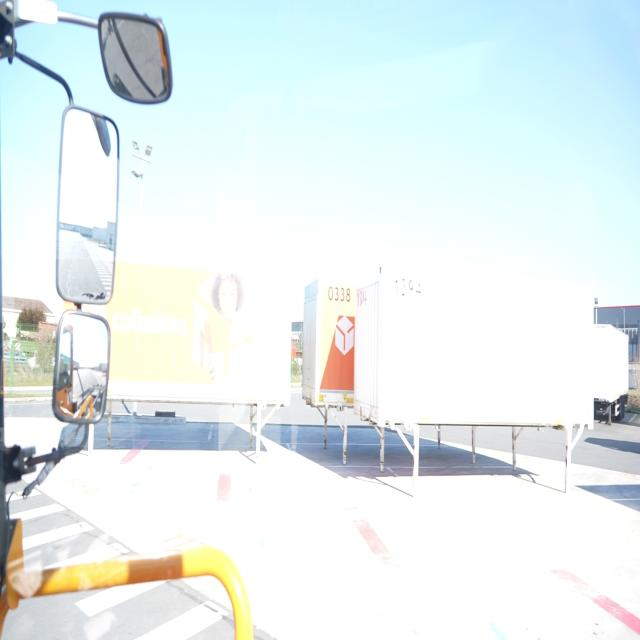Code: (326, 280, 351, 310)
